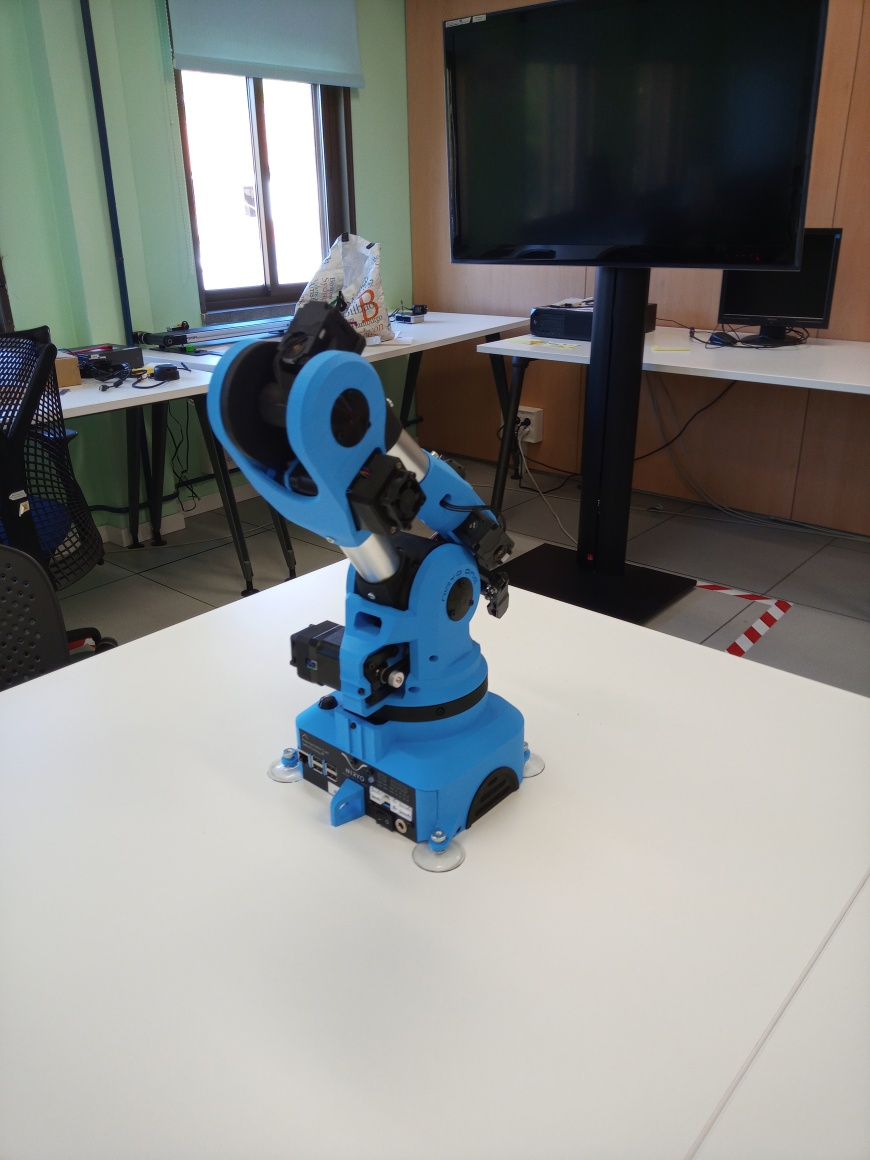robot: (204, 298, 551, 875)
